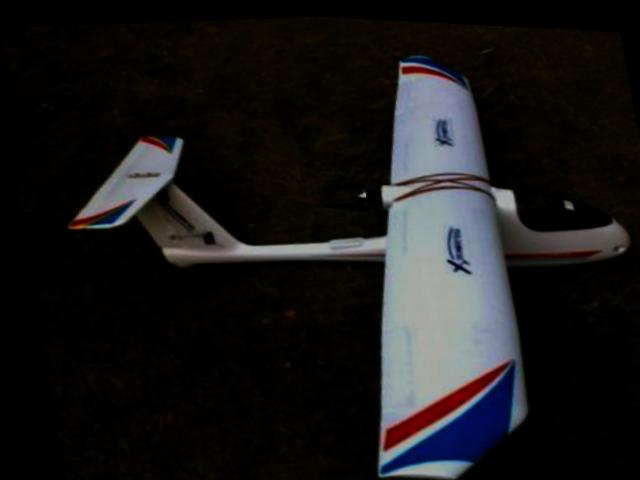uav: (30, 18, 640, 480)
